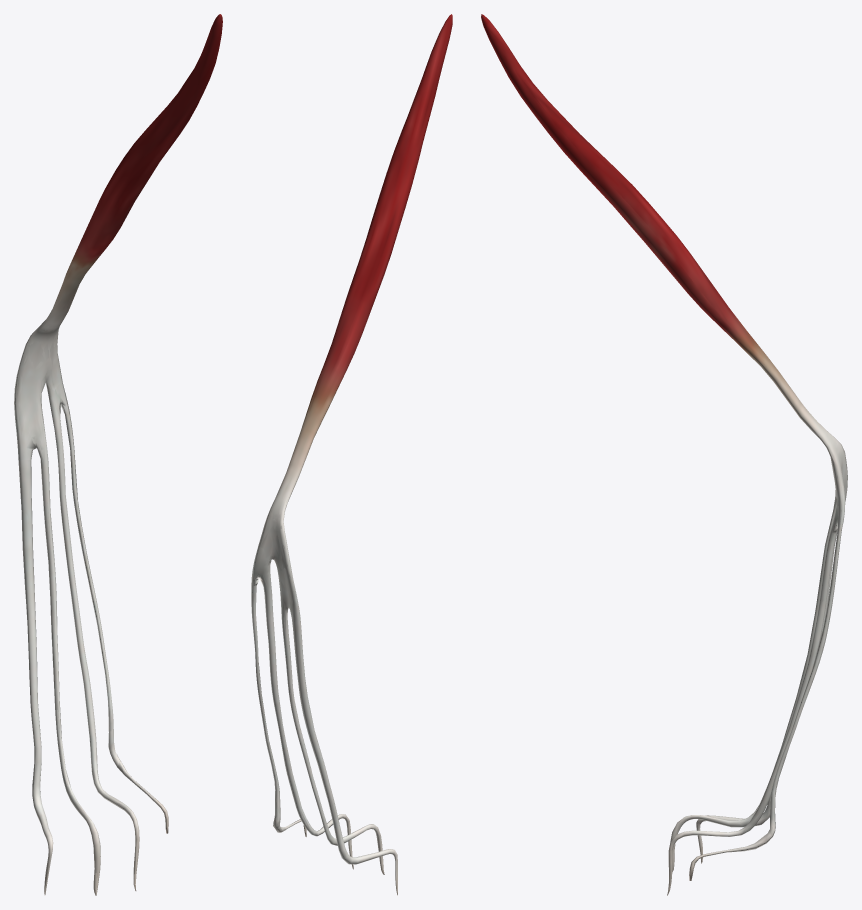
Rendered from R Extensor digitorum longus.fbx.
3 views of the same model, side by side, from view 1: azimuth 30°, elevation 25°; view 2: azimuth 150°, elevation 25°; view 3: azimuth 270°, elevation 25° (orthographic). The views are drawn at different scales.
Visible parts, largest first — view 1: R Extensor digitorum longus, R Extensor digitorum longus low, R Extensor digitorum longus high; view 2: R Extensor digitorum longus, R Extensor digitorum longus low, R Extensor digitorum longus high; view 3: R Extensor digitorum longus, R Extensor digitorum longus low, R Extensor digitorum longus high.
Part boxes in pixels (x1,y1,x2,y2): R Extensor digitorum longus: (14, 14, 222, 895); R Extensor digitorum longus low: (16, 19, 221, 892); R Extensor digitorum longus high: (18, 19, 222, 892); R Extensor digitorum longus: (251, 14, 452, 895); R Extensor digitorum longus low: (251, 22, 451, 894); R Extensor digitorum longus high: (252, 18, 451, 863); R Extensor digitorum longus: (481, 14, 847, 895); R Extensor digitorum longus low: (484, 24, 847, 894); R Extensor digitorum longus high: (482, 20, 846, 891).
Bounding box in the file's own units: 1.87 × 14.4 × 5.48.
Materials: 1 (1 with a texture image).
